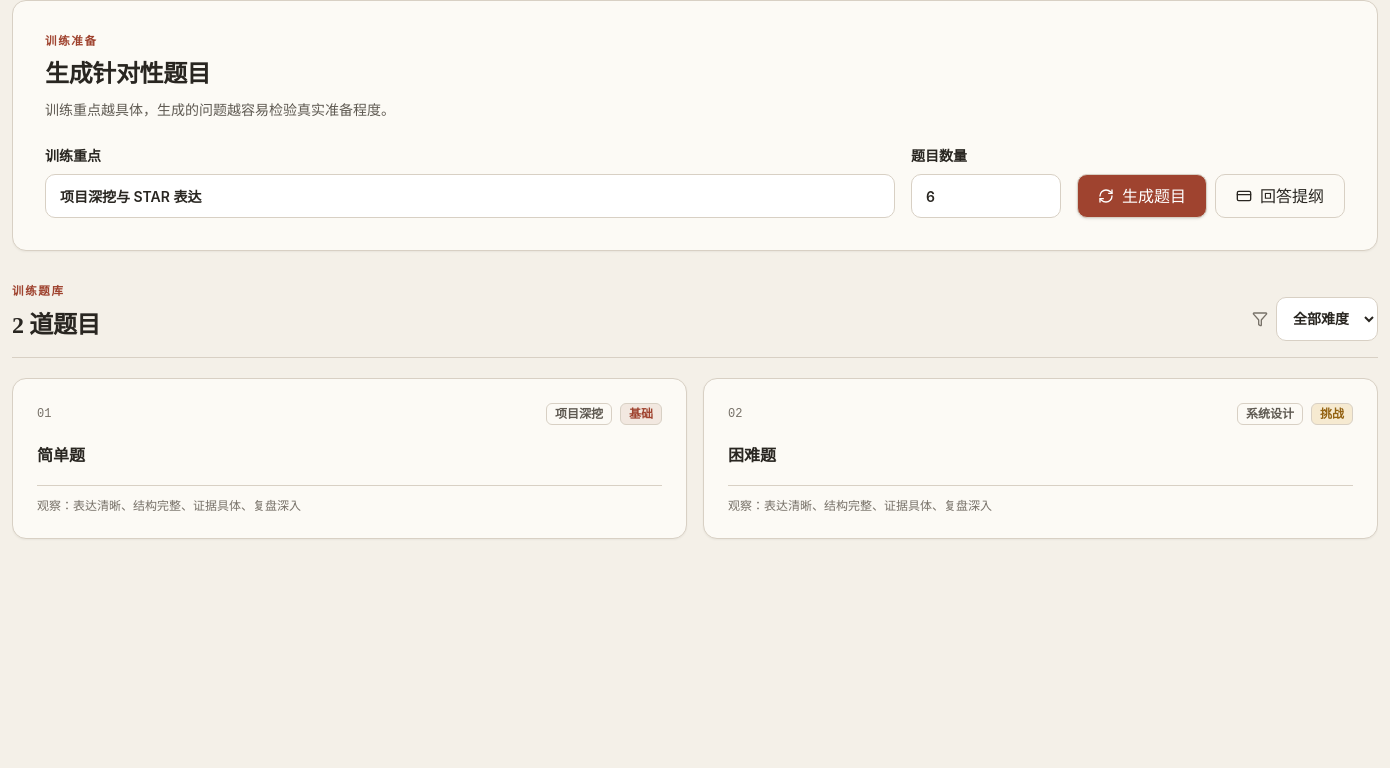
Test: QuestionsPage › filters the visible question list by difficulty
This screenshot has width=1390, height=768.
Select "挑战" in the dropdown with test id "difficulty-filter". click: (1327, 318)
box: [1276,296,1378,340]
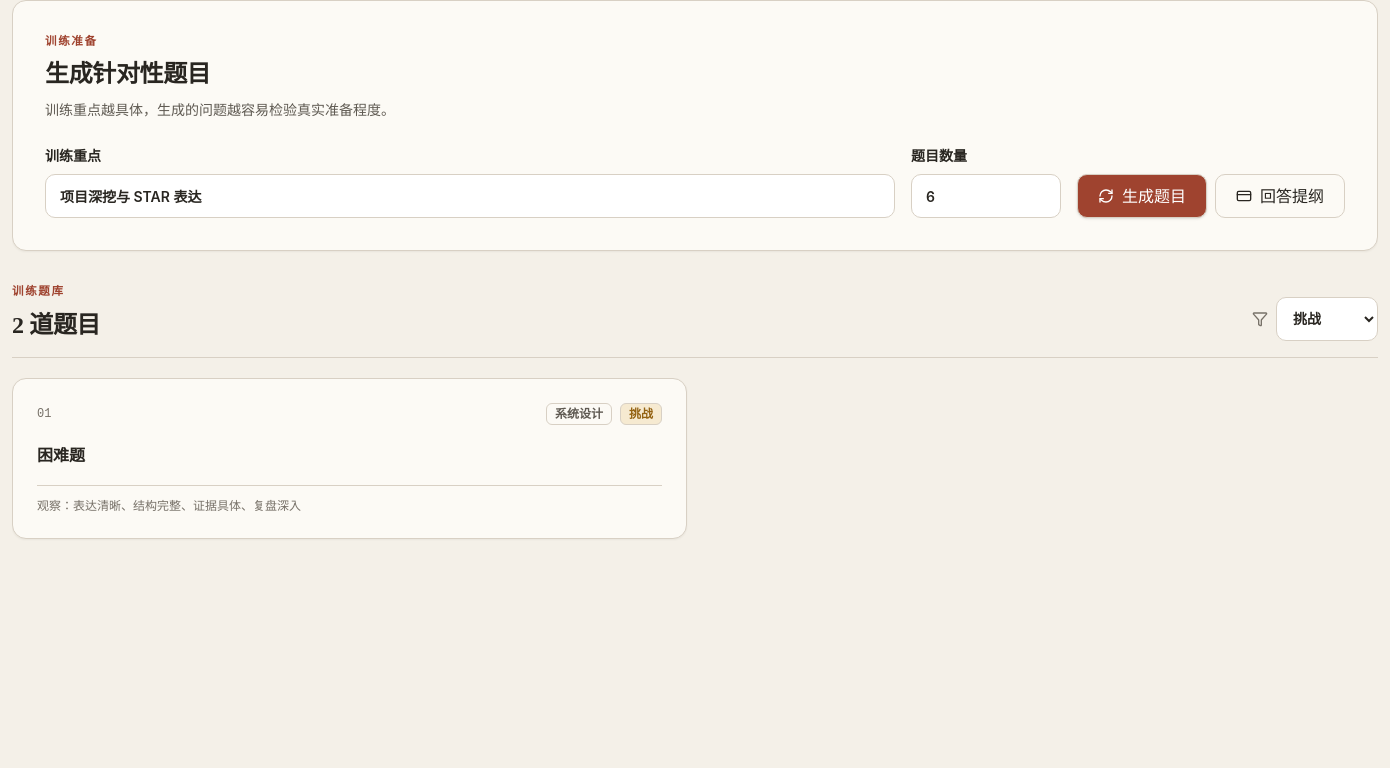
Expected: the text "困难题" is shown, [37,444,85,464]
Now the text "简单题" is gone
